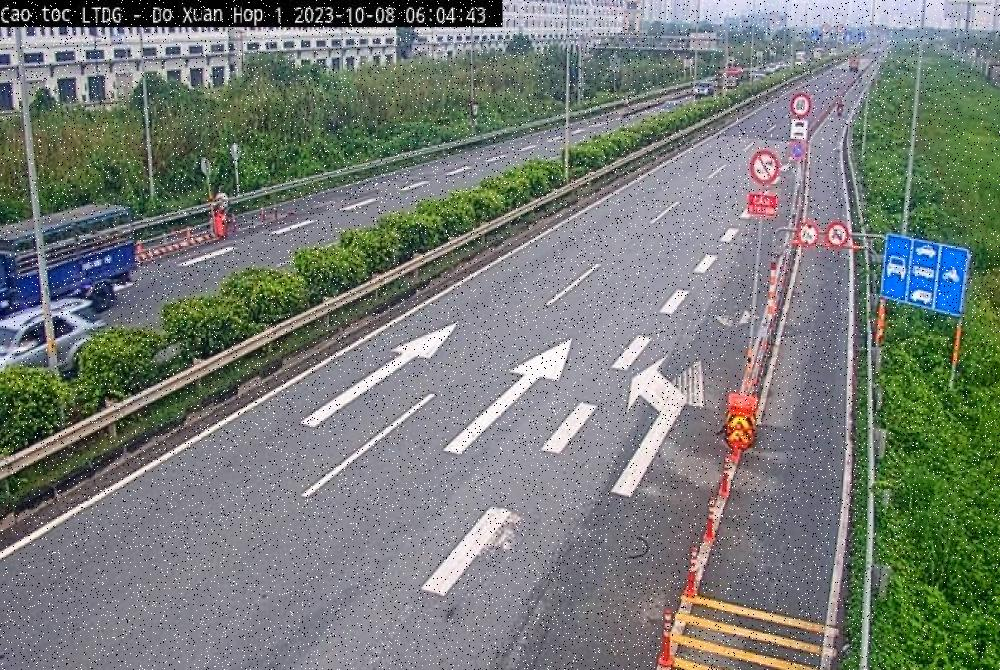car: (0, 293, 104, 388)
truck: (0, 202, 141, 320)
